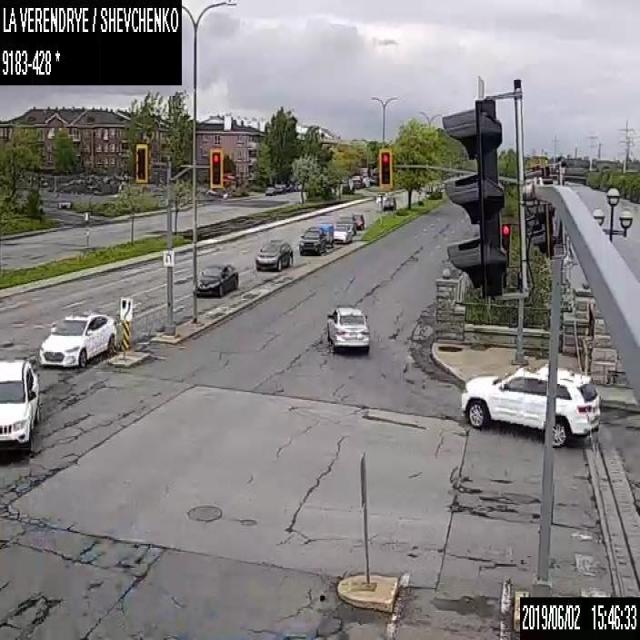vehicle: (461, 362, 602, 447), (38, 308, 118, 369), (0, 356, 41, 453), (326, 304, 370, 352), (195, 262, 238, 296), (255, 237, 293, 271), (299, 222, 333, 255), (336, 214, 356, 233), (333, 222, 352, 242), (350, 212, 364, 228), (382, 195, 396, 210), (265, 186, 275, 194)
